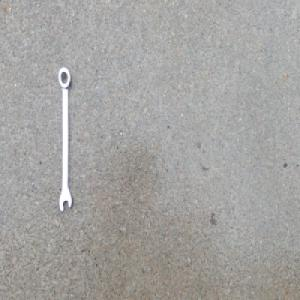Wrench: (57, 65, 72, 213)
